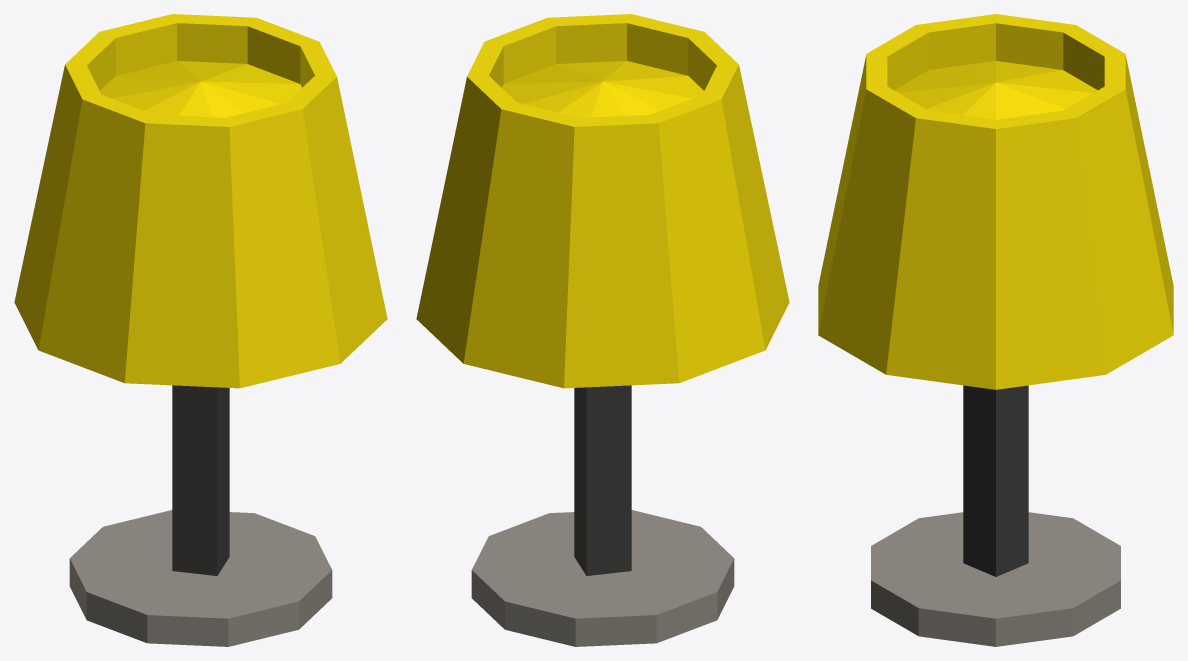
The model's file is Lamp_night_1A.fbx.
3 renders of one model, left to right at view 1: azimuth 30°, elevation 25°; view 2: azimuth 150°, elevation 25°; view 3: azimuth 270°, elevation 25°, orthographic.
Visible parts, largest first — view 1: polySurface2321; view 2: polySurface2321; view 3: polySurface2321.
Part boxes in pixels (x1,y1,x2,y2): polySurface2321: (14, 14, 387, 646); polySurface2321: (416, 14, 789, 646); polySurface2321: (818, 14, 1173, 646).
Size of the model in its own units: 0.5872 by 0.901 by 0.5585.
Materials: 1 (1 with a texture image).
